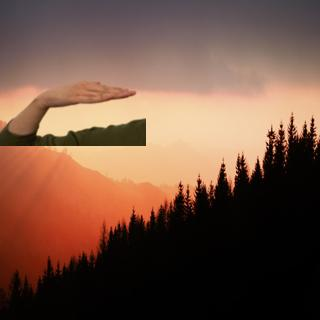WAIT: (33, 73, 140, 110)
